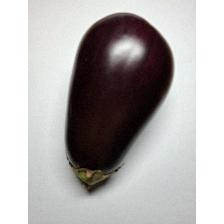Aubergine: (62, 10, 176, 192)
